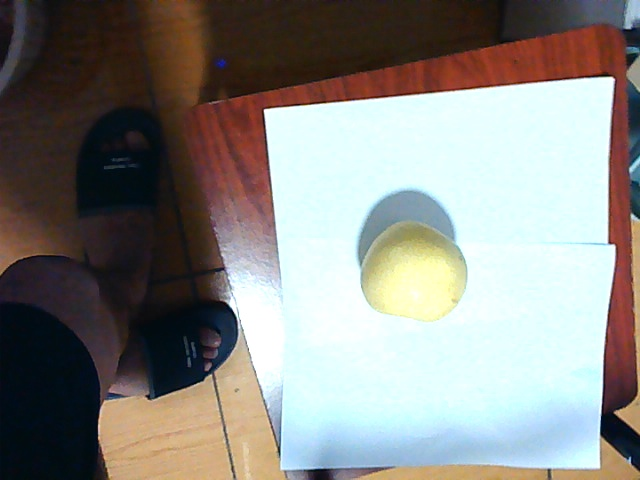pear: (366, 222, 469, 324)
